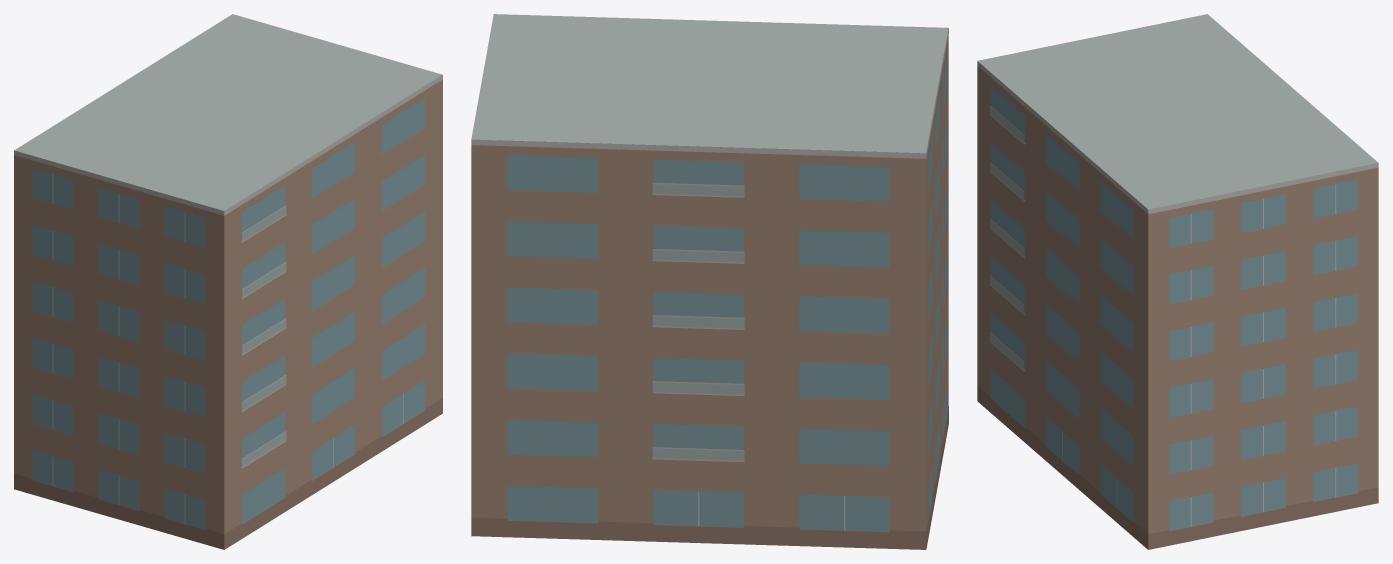
Rendered from survey-upis-32834739.glb.
3 renders of one model, left to right at view 1: azimuth 30°, elevation 25°; view 2: azimuth 150°, elevation 25°; view 3: azimuth 270°, elevation 25°, orthographic. The views are drawn at different scales.
Parts seen in each view (by area): view 1: survey-upis-32834739.tmp; view 2: survey-upis-32834739.tmp; view 3: survey-upis-32834739.tmp.
Part boxes in pixels (<box>): survey-upis-32834739.tmp: <box>14,14,442,549</box>; survey-upis-32834739.tmp: <box>471,14,948,549</box>; survey-upis-32834739.tmp: <box>977,14,1378,549</box>.
Bounding box in the file's own units: 21.58 × 17.5 × 18.71.
